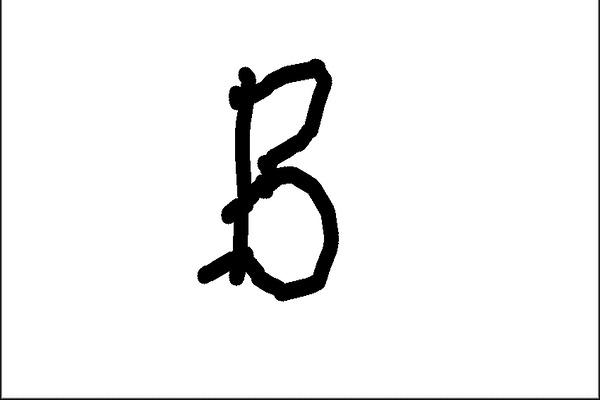B: (185, 50, 351, 310)
